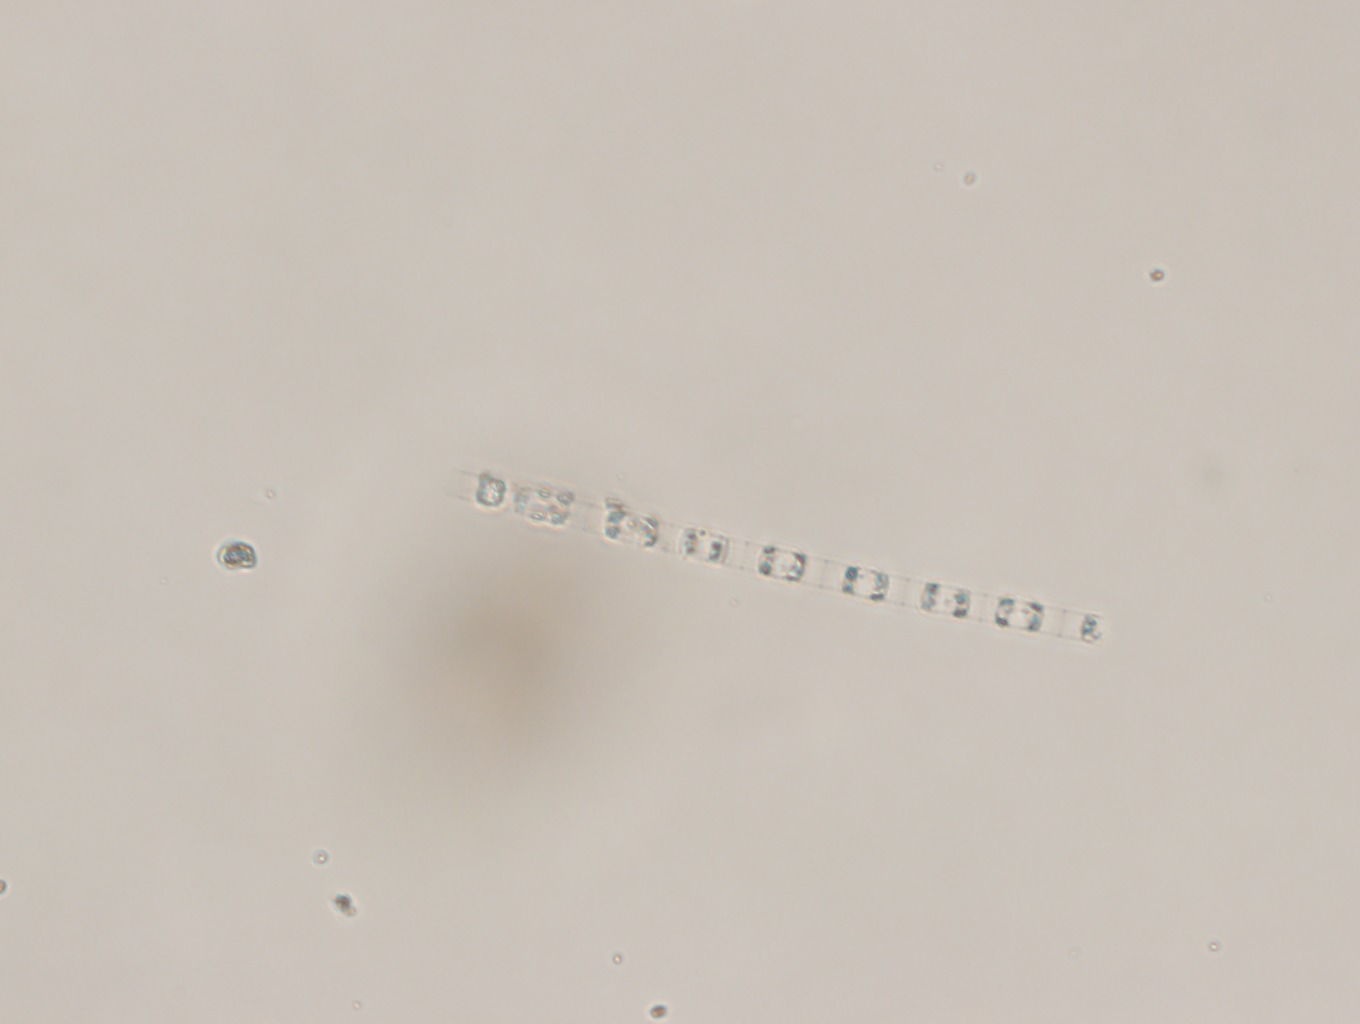skeletonema: (431, 456, 1111, 662)
